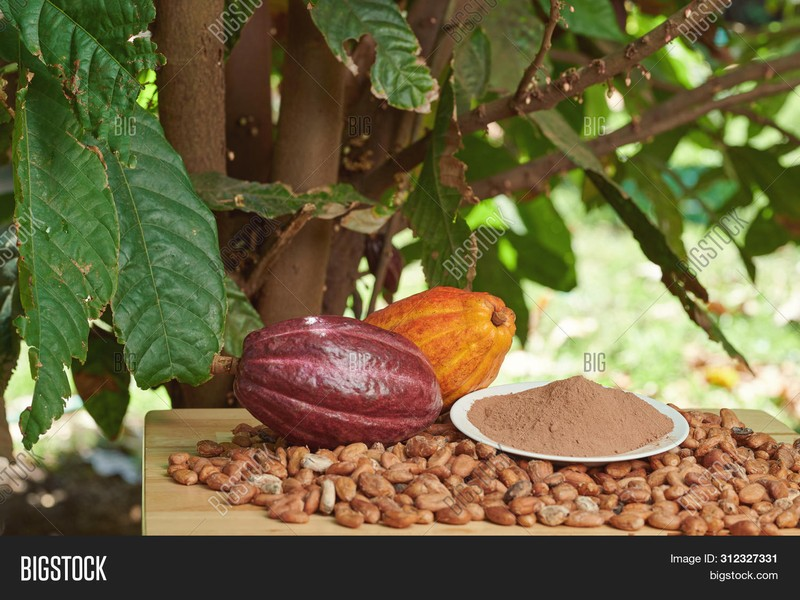Cacaopod: (212, 313, 445, 441)
